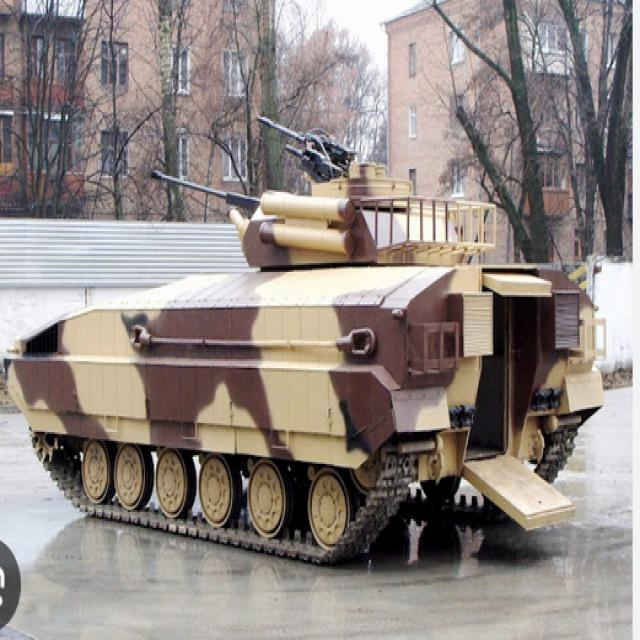MIL_APC: (13, 182, 602, 574)
